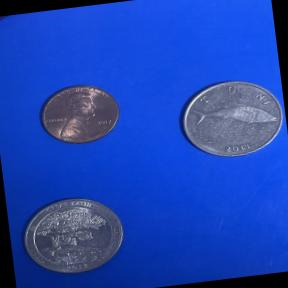coin: (14, 188, 134, 286), (170, 71, 288, 166), (32, 76, 128, 154)
